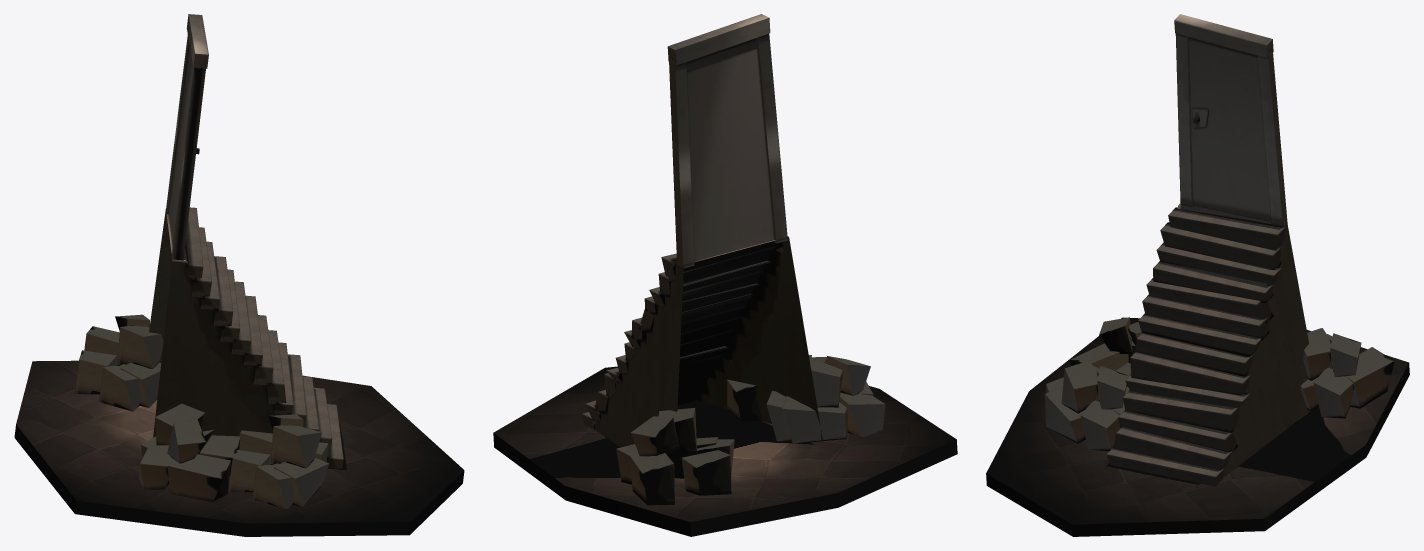
File: newDoorBackgroundElement.fbx
3 views of the same model, side by side, from view 1: azimuth 30°, elevation 25°; view 2: azimuth 150°, elevation 25°; view 3: azimuth 270°, elevation 25° (orthographic). The views are drawn at different scales.
Visible parts, largest first — view 1: pCube1, polySurface206, polySurface260, polySurface259, polySurface261; view 2: polySurface206, pCube1, polySurface261, polySurface259, polySurface260; view 3: polySurface206, pCube1, polySurface261, polySurface260, polySurface259.
Part boxes in pixels (box(x1,y1,x2,y2)): pCube1: box(14, 360, 464, 536); polySurface206: box(149, 14, 343, 468); polySurface260: box(228, 414, 329, 508); polySurface259: box(139, 403, 240, 502); polySurface261: box(74, 314, 163, 411); polySurface206: box(582, 14, 822, 477); pCube1: box(493, 366, 957, 536); polySurface261: box(616, 408, 734, 505); polySurface259: box(766, 356, 885, 443); polySurface260: box(727, 355, 826, 421); polySurface206: box(1106, 14, 1309, 486); pCube1: box(986, 317, 1409, 536); polySurface261: box(1300, 328, 1394, 418); polySurface260: box(1045, 360, 1129, 450); polySurface259: box(1069, 317, 1142, 386).
Bounding box in the file's own units: 97.98 × 112 × 101.
